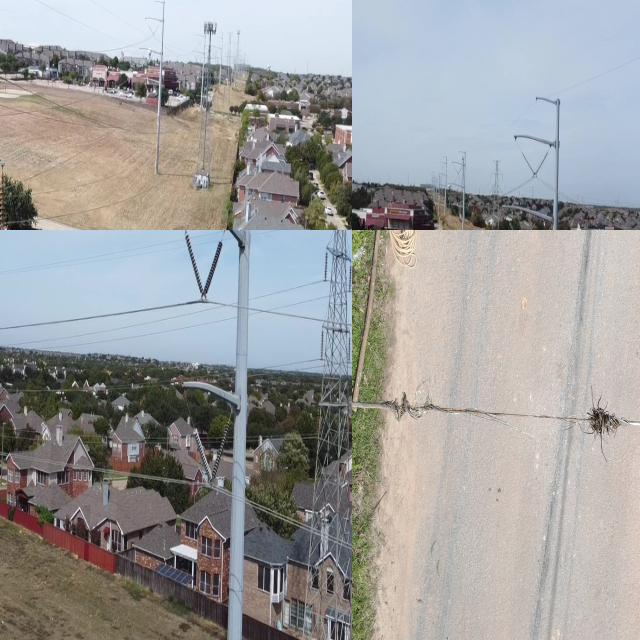杆塔: (290, 230, 352, 640), (190, 15, 221, 195), (484, 150, 507, 230)
正常绝缘子: (201, 414, 237, 504), (187, 412, 220, 498), (194, 231, 227, 314), (178, 230, 209, 308), (532, 150, 550, 179), (520, 149, 537, 178), (321, 248, 331, 284), (0, 162, 5, 230), (318, 326, 327, 362), (346, 330, 352, 365), (346, 259, 352, 294), (508, 221, 516, 230), (529, 222, 536, 230)
电缆破损: (360, 358, 631, 454)
